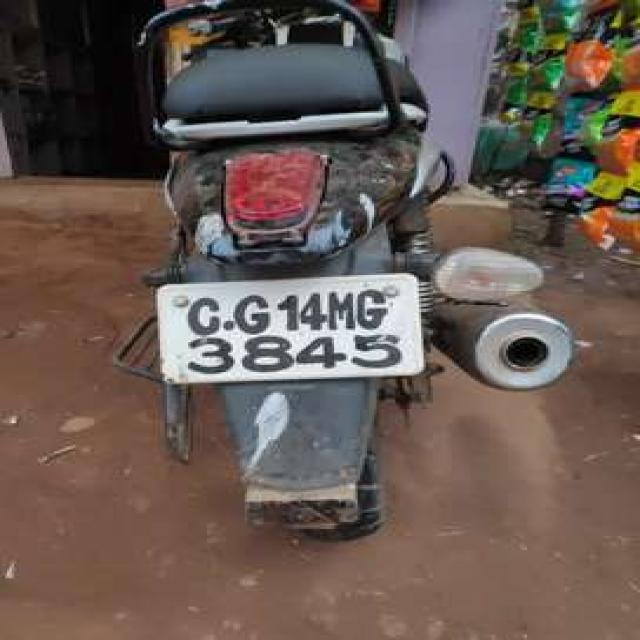license_plate: (153, 270, 426, 384)
